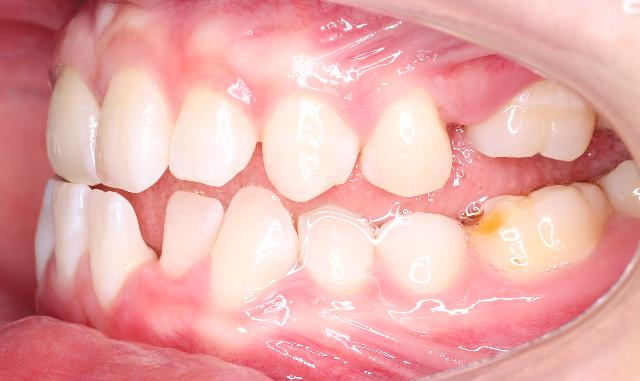canine class I: (214, 92, 376, 312)
molar class II 1/2: (458, 78, 628, 288)
